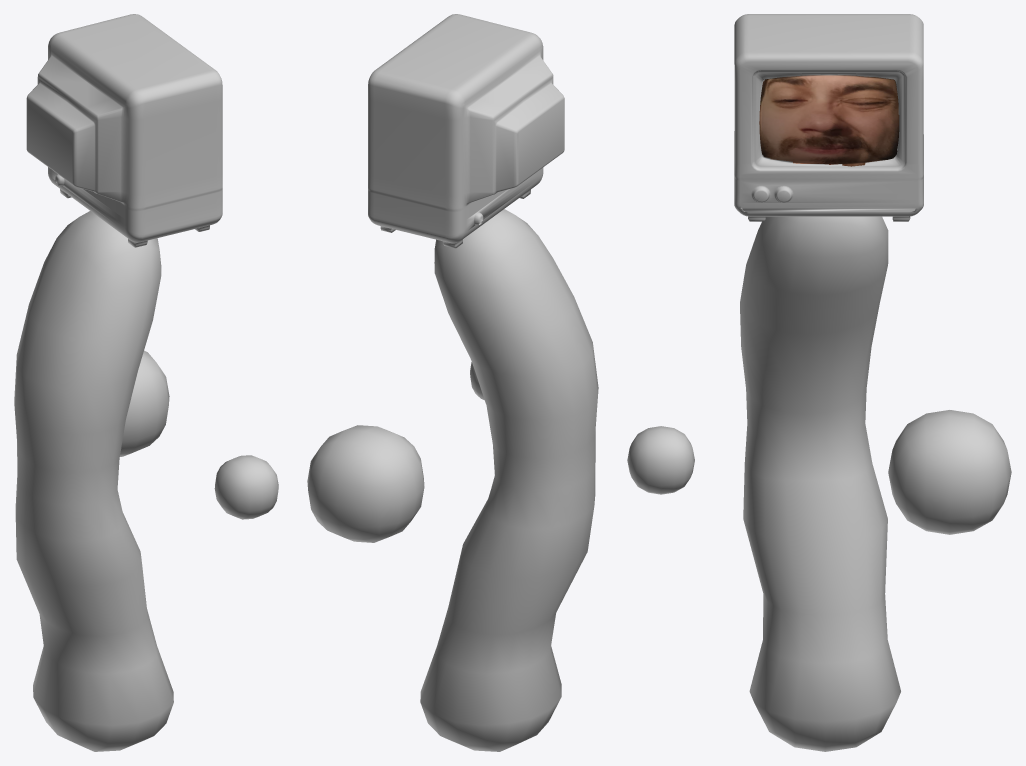
Rendered from Telewizjołeb.fbx.
3 views of the same model, side by side, from view 1: azimuth 30°, elevation 25°; view 2: azimuth 150°, elevation 25°; view 3: azimuth 270°, elevation 25° (orthographic). The views are drawn at different scales.
Parts seen in each view (by area): view 1: Cube, material, Cube.003, Cube.004; view 2: Cube, material, Cube.004; view 3: Cube, material, Cube.004, Cube.003.
Boxes of the visible parts, x1,y1,x2,y2 form: Cube: [14, 211, 173, 751]; material: [26, 14, 222, 247]; Cube.003: [214, 455, 278, 519]; Cube.004: [120, 350, 169, 456]; Cube: [420, 209, 598, 751]; material: [368, 14, 564, 248]; Cube.004: [307, 425, 424, 542]; Cube: [740, 216, 900, 751]; material: [734, 14, 923, 221]; Cube.004: [888, 410, 1011, 534]; Cube.003: [627, 426, 694, 494].
Bounding box in the file's own units: 226 × 717 × 344.
